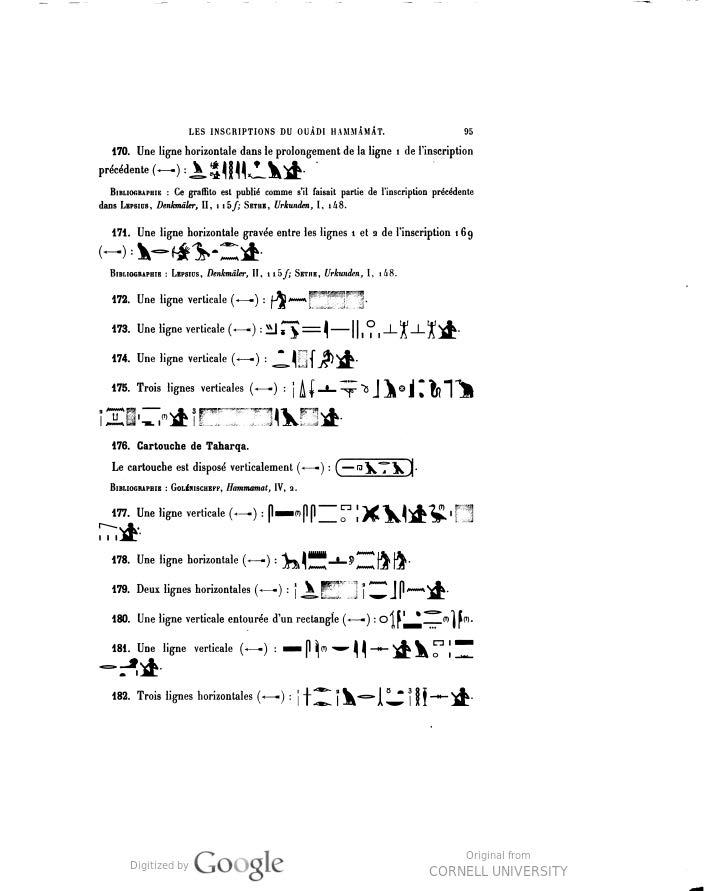circle: (332, 452, 427, 486)
